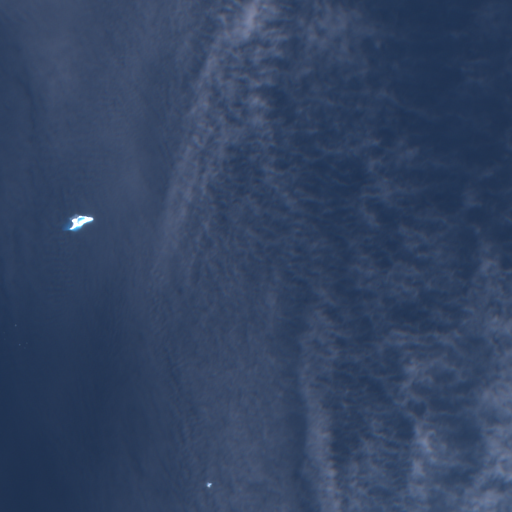Iceberg: (70, 216, 93, 229), (207, 482, 211, 486)
